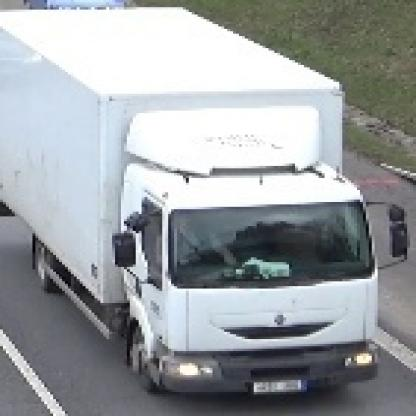truck: (1, 6, 408, 403)
